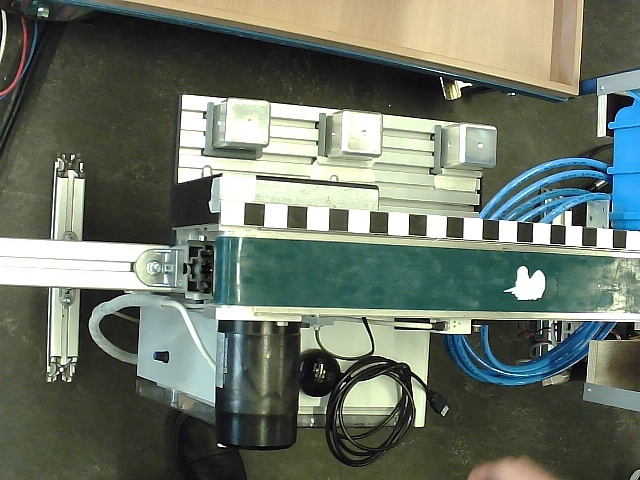unicorn: (504, 266, 546, 301)
